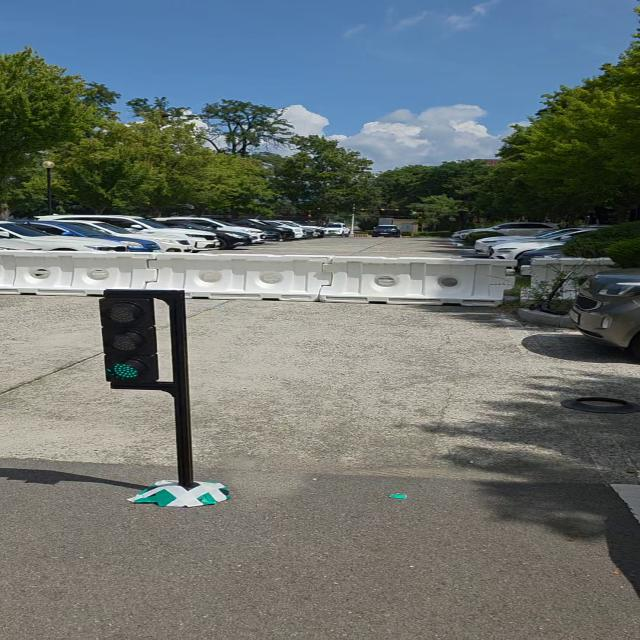green: (99, 291, 160, 388)
